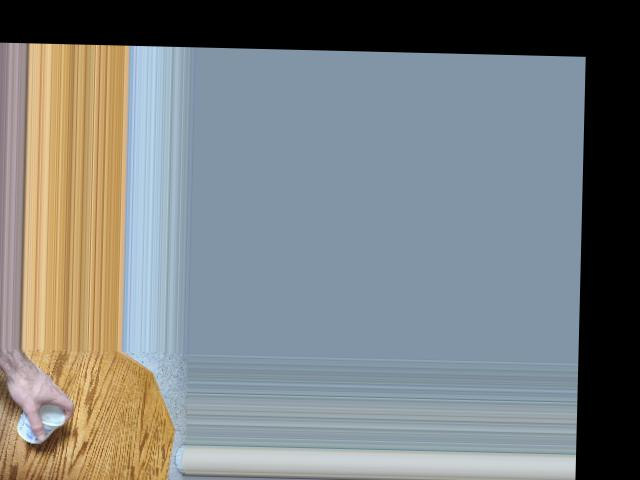cotage: (12, 394, 67, 441)
